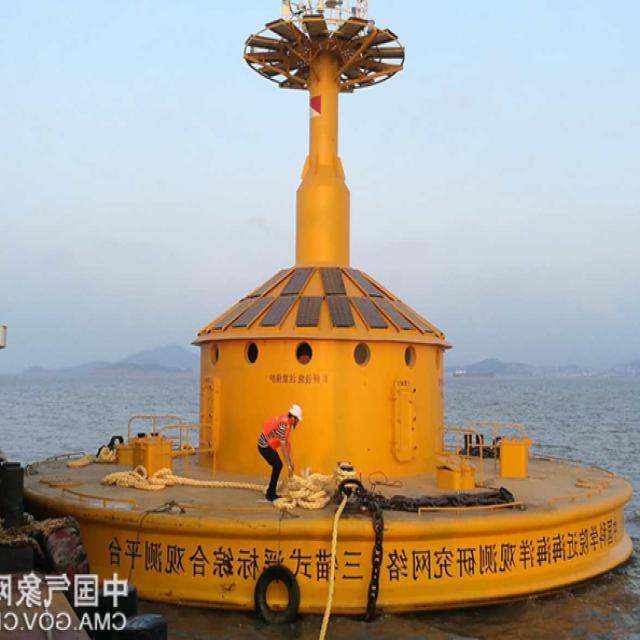buoy: (35, 0, 627, 603)
